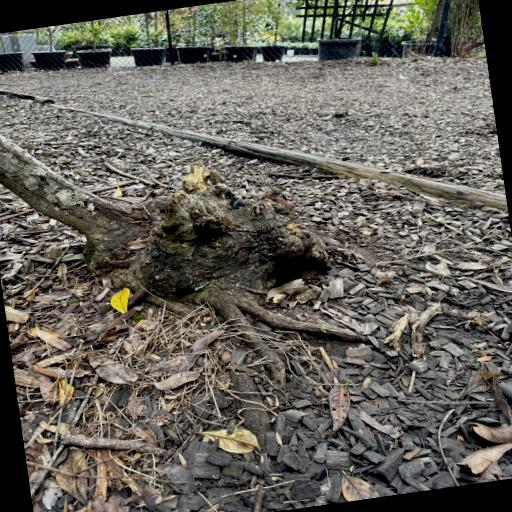tree root: (0, 134, 330, 332)
